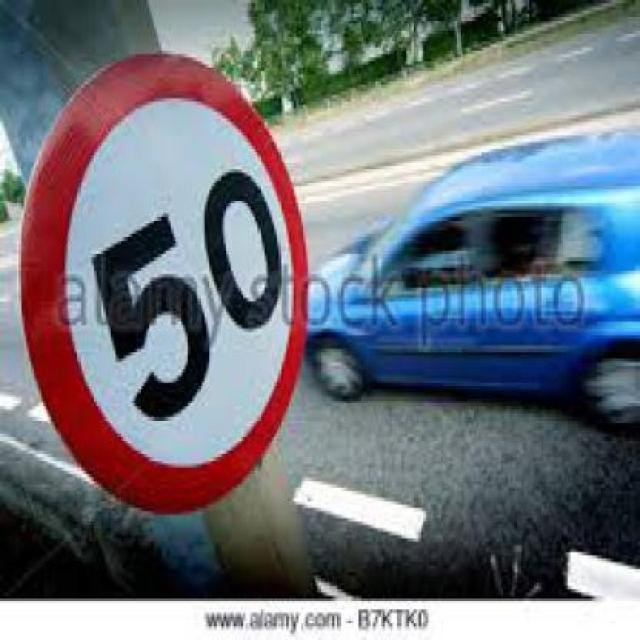forb_speed_over_50: (24, 64, 304, 498)
